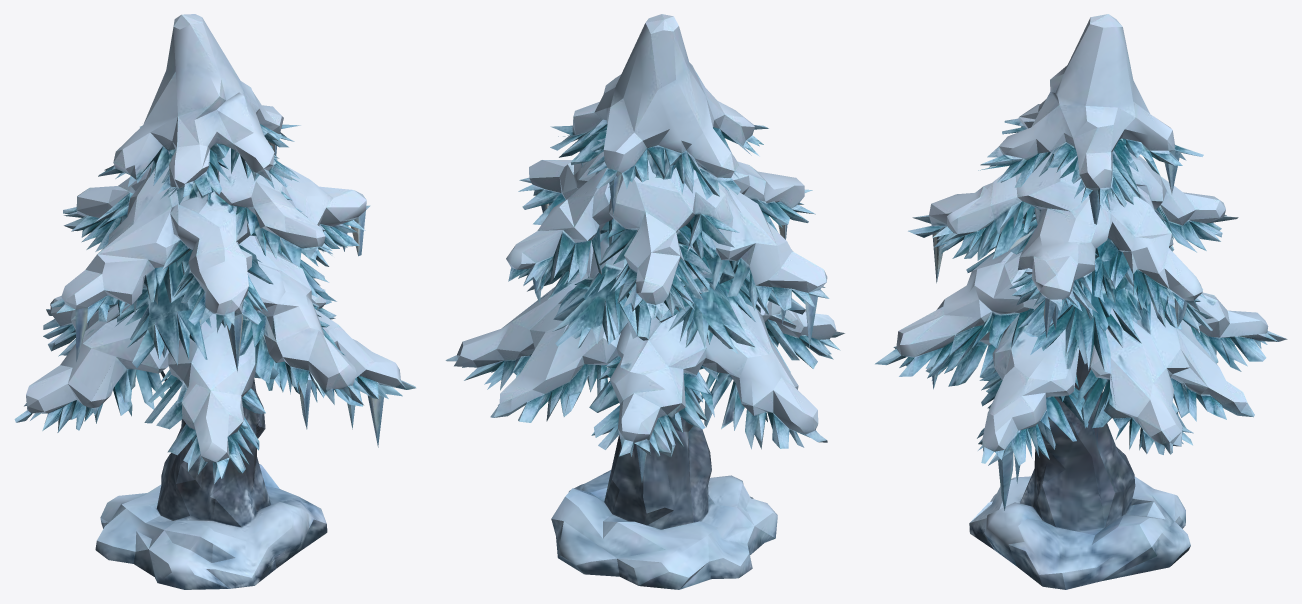
The model's file is crypte_arbre.glb.
3 renders of one model, left to right at view 1: azimuth 30°, elevation 25°; view 2: azimuth 150°, elevation 25°; view 3: azimuth 270°, elevation 25°, orthographic. The views are drawn at different scales.
Bounding box in the file's own units: 1.32 × 1.9 × 1.37.
1 material, 1 textured.
